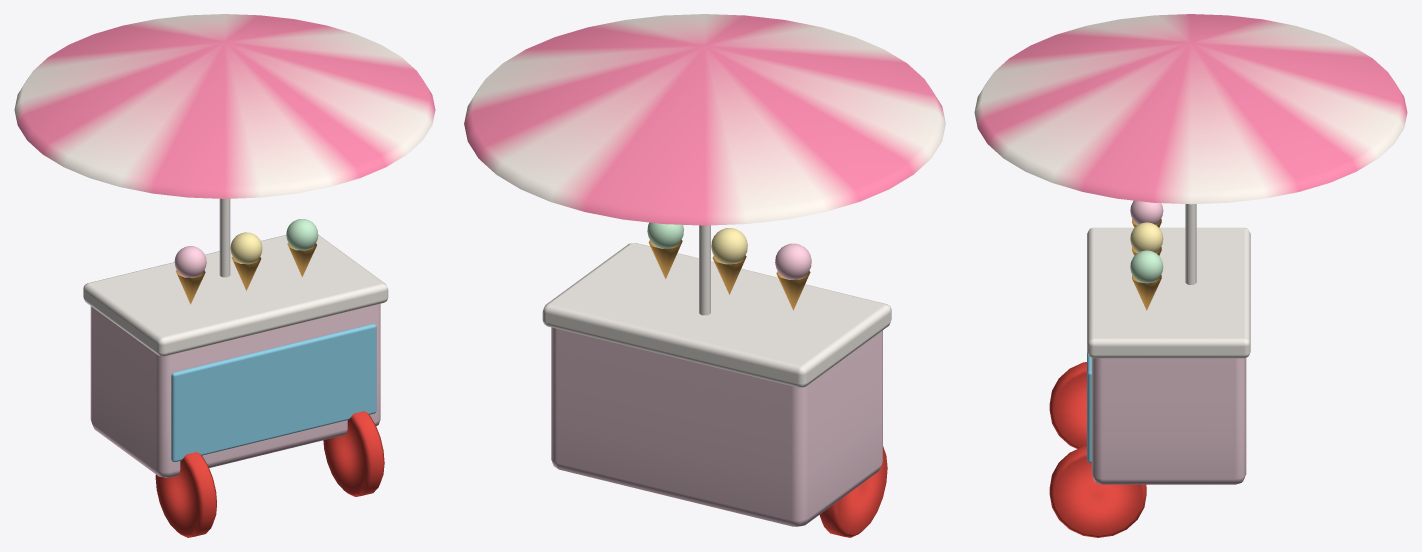
File: icecream.glb
3 renders of one model, left to right at view 1: azimuth 30°, elevation 25°; view 2: azimuth 150°, elevation 25°; view 3: azimuth 270°, elevation 25°, orthographic. The views are drawn at different scales.
Visible parts, largest first — view 1: icecream_main, icecream_umbrella; view 2: icecream_main, icecream_umbrella; view 3: icecream_umbrella, icecream_main.
Boxes of the visible parts, x1,y1,x2,y2 form: icecream_main: (83,198,388,537); icecream_umbrella: (14,14,435,198); icecream_main: (542,222,891,537); icecream_umbrella: (464,14,945,225); icecream_umbrella: (974,14,1407,204); icecream_main: (1049,200,1250,537).
Size of the model in its own units: 1.96 by 2.25 by 1.96.
